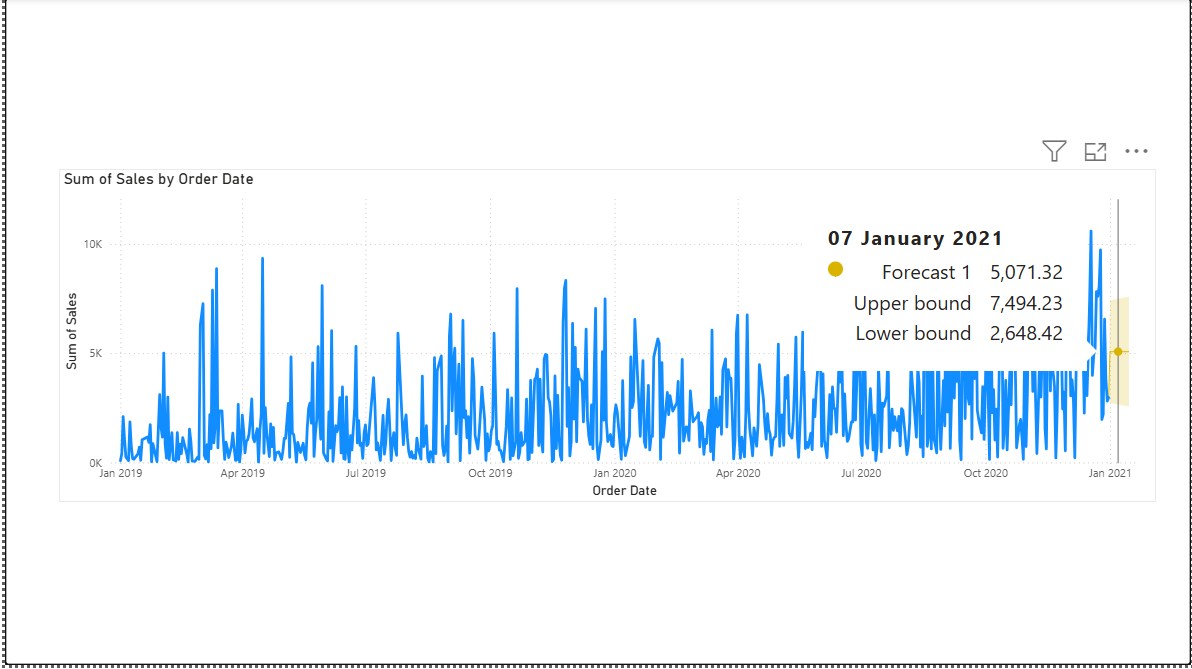

The page's visual inventory and layout, read from the dashboard file:
{"tool":"powerbi","page":{"name":"FORECASTING","canvas":[1280,720],"ordinal":1},"visuals":[{"type":"lineChart","fields":{"Y":["Sum(SuperStore_Sales_Dataset.Sales)"],"Category":["SuperStore_Sales_Dataset.Order Date"]},"box":[58.3,184.6,1183.7,359.5],"z":0}]}

Visuals, with their boxes on the page's 1280x720 design canvas (x1, y1, x2, y2). These are canvas units, not pixel positions in the 1192x669 screenshot, which may show the page scaled, cropped or inside an application window:
lineChart - Sum(SuperStore_Sales_Dataset.Sales) x SuperStore_Sales_Dataset.Order Date: BBox(58, 185, 1242, 544)
